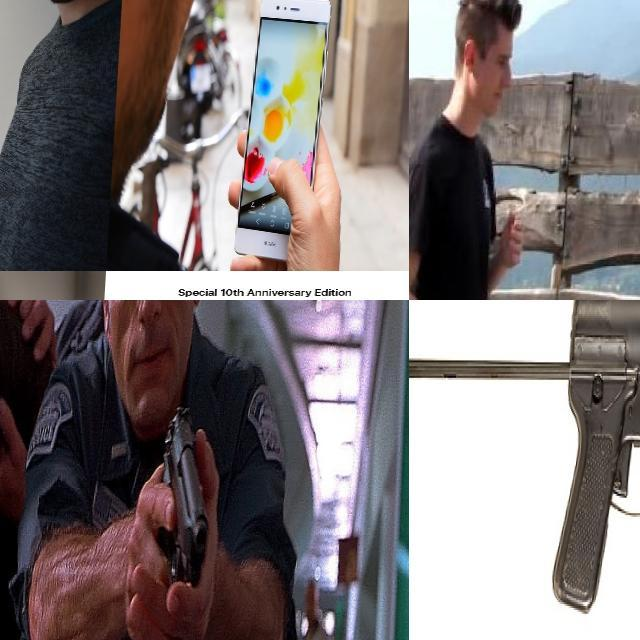gun-knife-thesis - v11 Yolov5 augmented: (409, 300, 640, 640), (160, 435, 228, 581)
